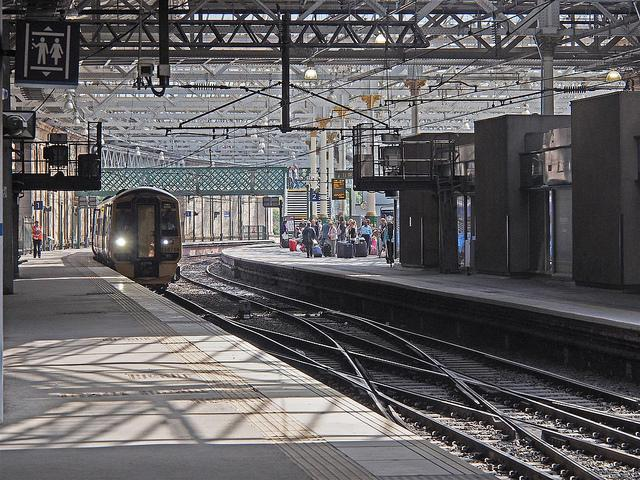Train: (92, 185, 184, 298)
